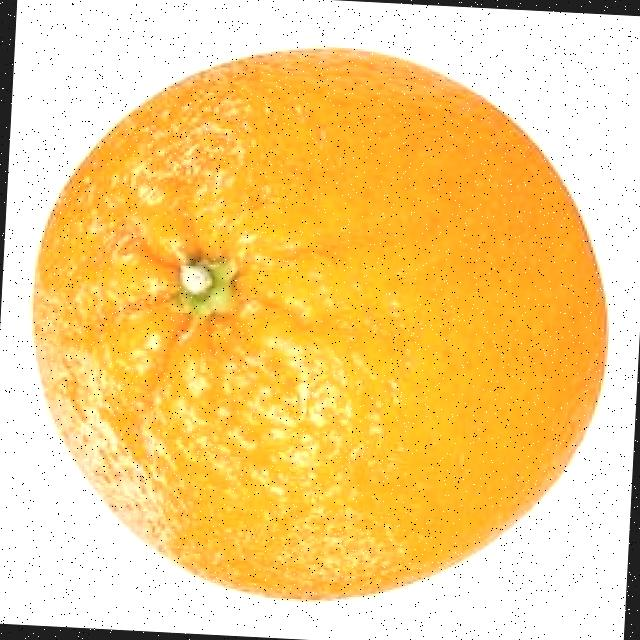Ripe: (9, 30, 620, 620)
